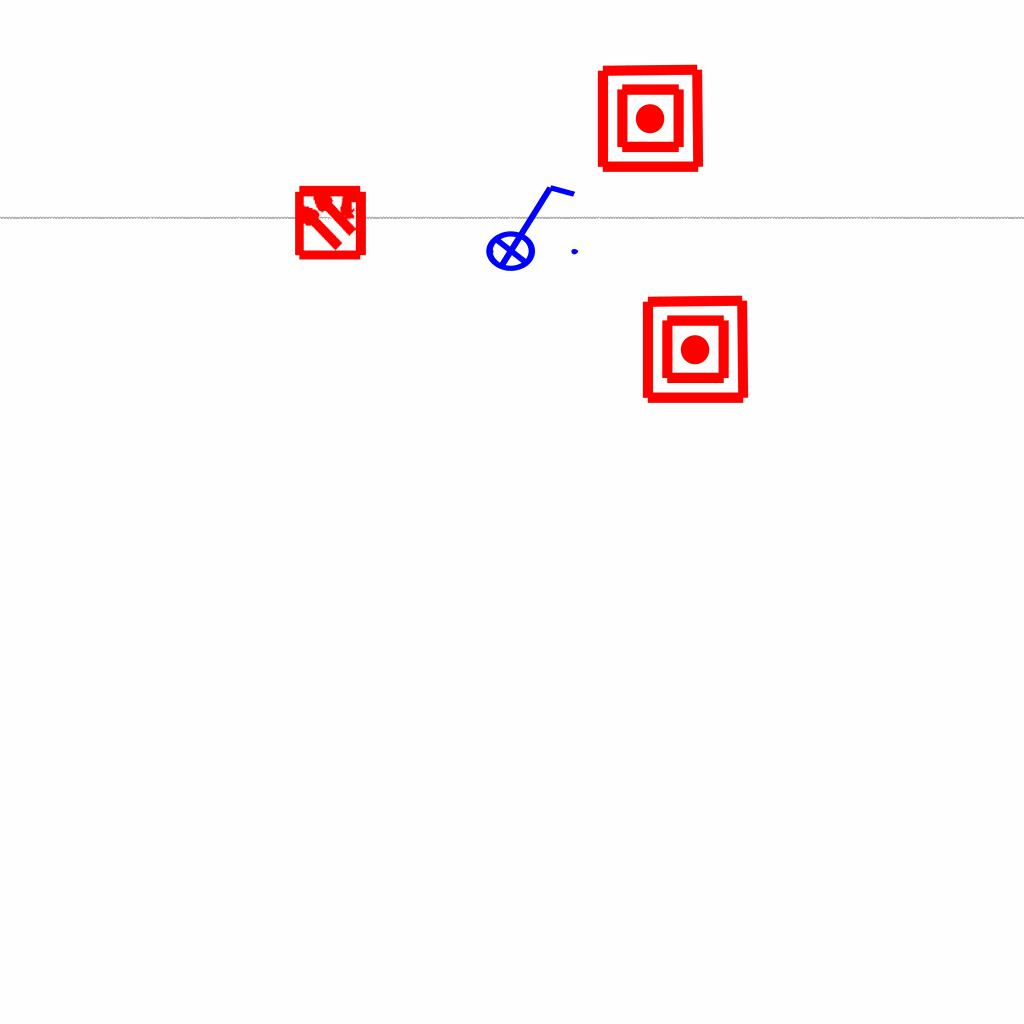Ausschalter_beleuchtet: (472, 177, 584, 273)
NAM-Nichtautomatischer_Melder: (639, 293, 752, 406), (594, 62, 707, 175)
OT_Multisensormelder_(Kombination_RMO_WMD): (274, 164, 387, 277)
